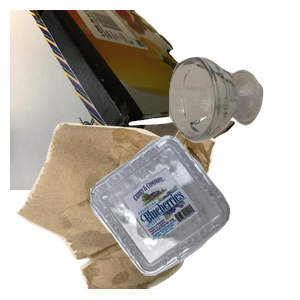cardboard: (10, 10, 238, 190)
glass: (166, 54, 300, 189)
plastic: (88, 133, 300, 300)
trash: (14, 120, 222, 300)
